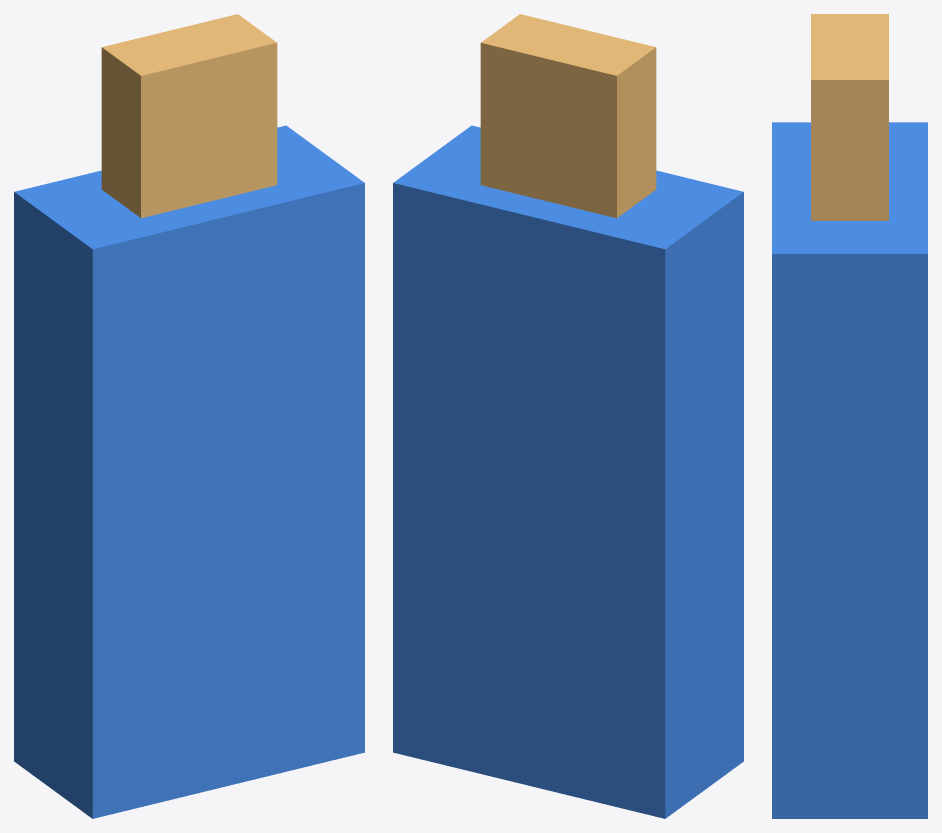
Rendered from character.obj.
The picture shows the model from 3 angles, left to right: view 1: azimuth 30°, elevation 25°; view 2: azimuth 150°, elevation 25°; view 3: azimuth 270°, elevation 25°; orthographic projection.
Bounding box in the file's own units: 1 × 2.5 × 0.5.
